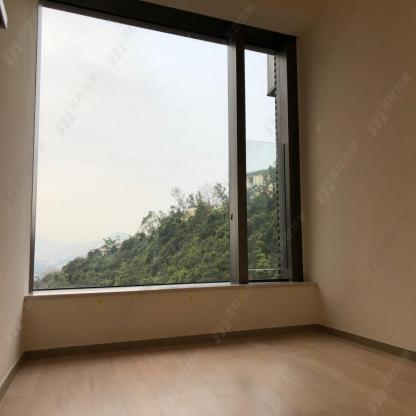Windowsill: (28, 0, 319, 296)
